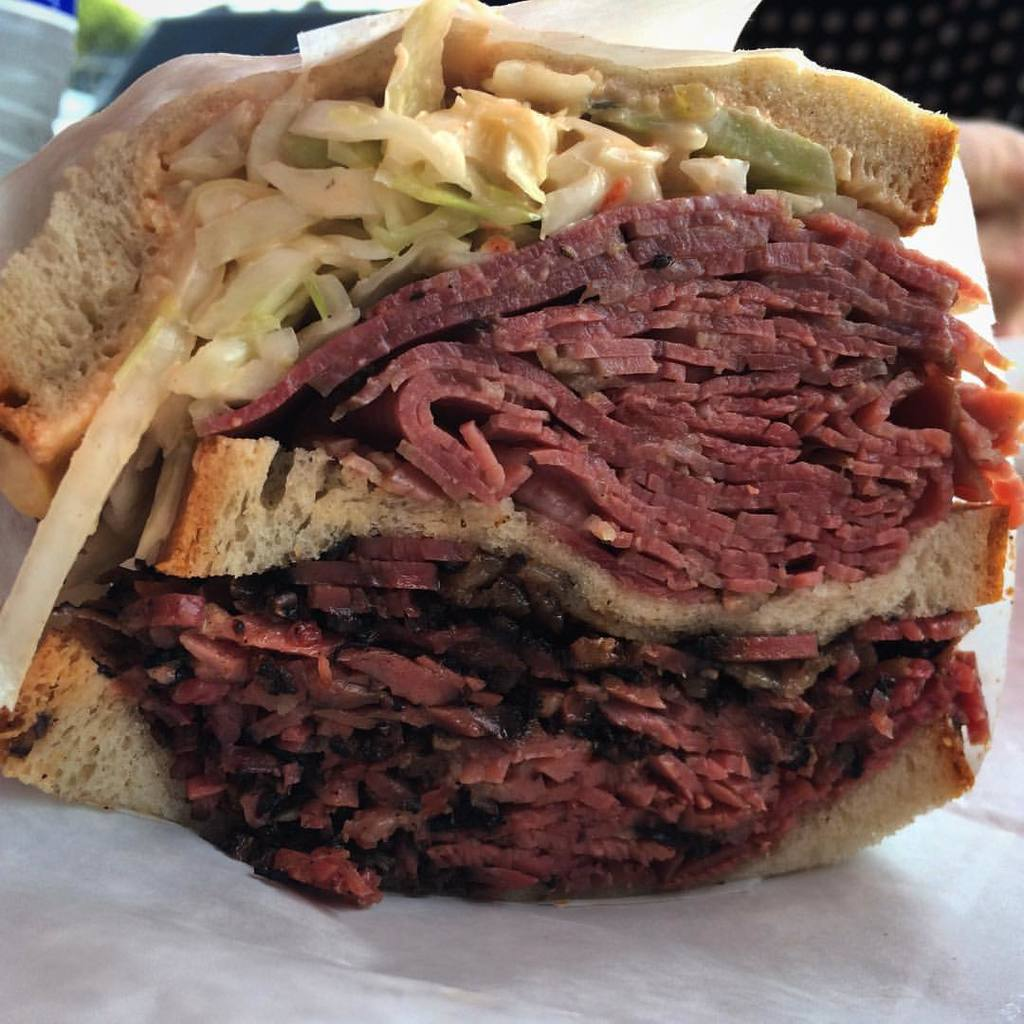Hamburger: (0, 0, 1023, 906)
